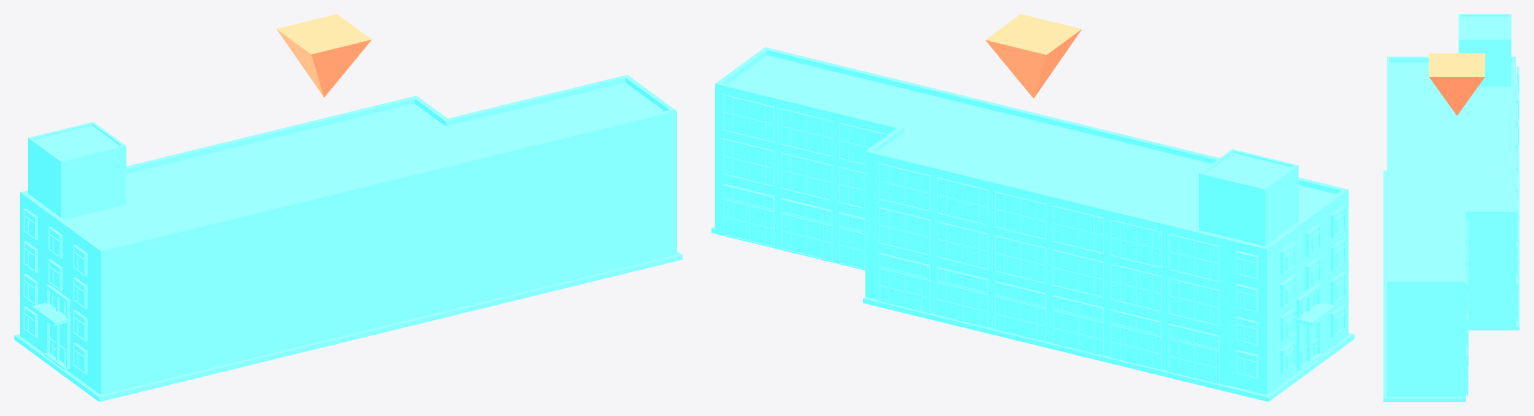
3 renders of one model, left to right at view 1: azimuth 30°, elevation 25°; view 2: azimuth 150°, elevation 25°; view 3: azimuth 270°, elevation 25°, orthographic. The views are drawn at different scales.
Visible parts, largest first — view 1: subject, fire-mark; view 2: subject, fire-mark; view 3: subject, fire-mark.
Part boxes in pixels (<box>): subject: <box>14,74,682,401</box>; fire-mark: <box>276,14,371,97</box>; subject: <box>711,47,1354,401</box>; fire-mark: <box>985,14,1081,98</box>; subject: <box>1383,14,1519,401</box>; fire-mark: <box>1429,53,1484,115</box>.
Size of the model in its own units: 57.42 by 24.68 by 14.18.
